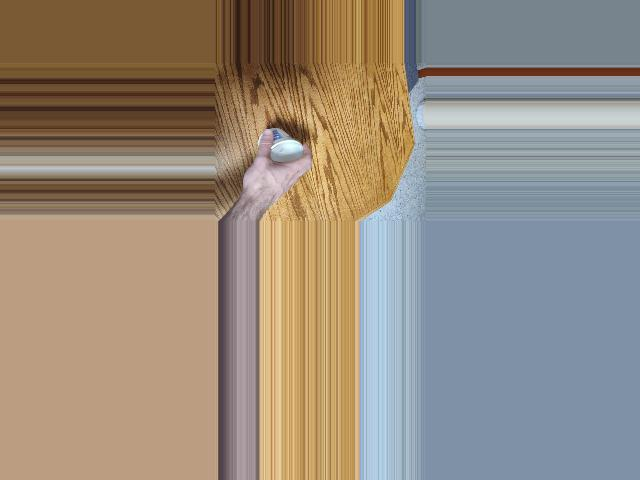cotage: (253, 128, 299, 168)
